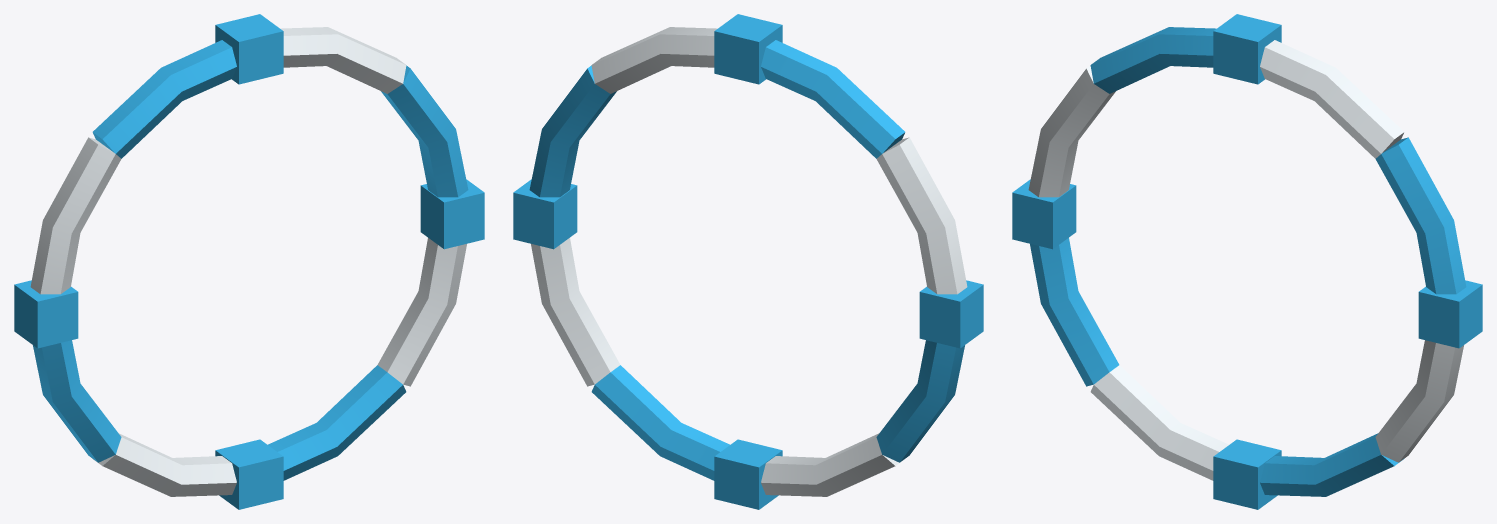
The model's file is ring.glb.
3 renders of one model, left to right at view 1: azimuth 30°, elevation 25°; view 2: azimuth 150°, elevation 25°; view 3: azimuth 330°, elevation 25°, orthographic.
Parts seen in each view (by area): view 1: ring_blue, ring_white; view 2: ring_blue, ring_white; view 3: ring_blue, ring_white.
Part boxes in pixels (bbox=[...]): ring_blue: bbox=[14, 14, 484, 509]; ring_white: bbox=[30, 27, 466, 496]; ring_blue: bbox=[513, 14, 983, 509]; ring_white: bbox=[531, 27, 967, 496]; ring_blue: bbox=[1012, 14, 1482, 509]; ring_white: bbox=[1028, 40, 1463, 480].
Size of the model in its own units: 2.2 by 2.2 by 0.2.
